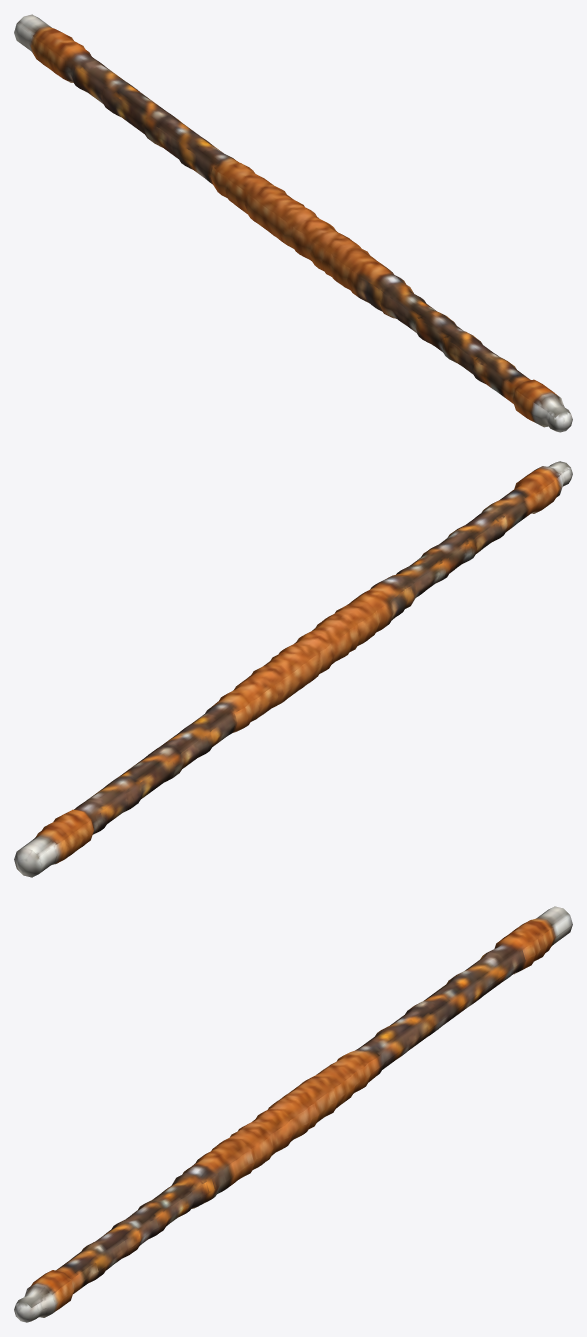
File: item_mm9_10077.glb
3 renders of one model, top to bottom at view 1: azimuth 30°, elevation 25°; view 2: azimuth 150°, elevation 25°; view 3: azimuth 330°, elevation 25°, orthographic.
Visible parts, largest first — view 1: d10077; view 2: d10077; view 3: d10077.
Part boxes in pixels (x1,y1,x2,y2): d10077: [14, 14, 572, 432]; d10077: [14, 461, 572, 877]; d10077: [14, 906, 572, 1322].
Size of the model in its own units: 10.37 by 9.86 by 259.
Materials: 1 (1 with a texture image).
